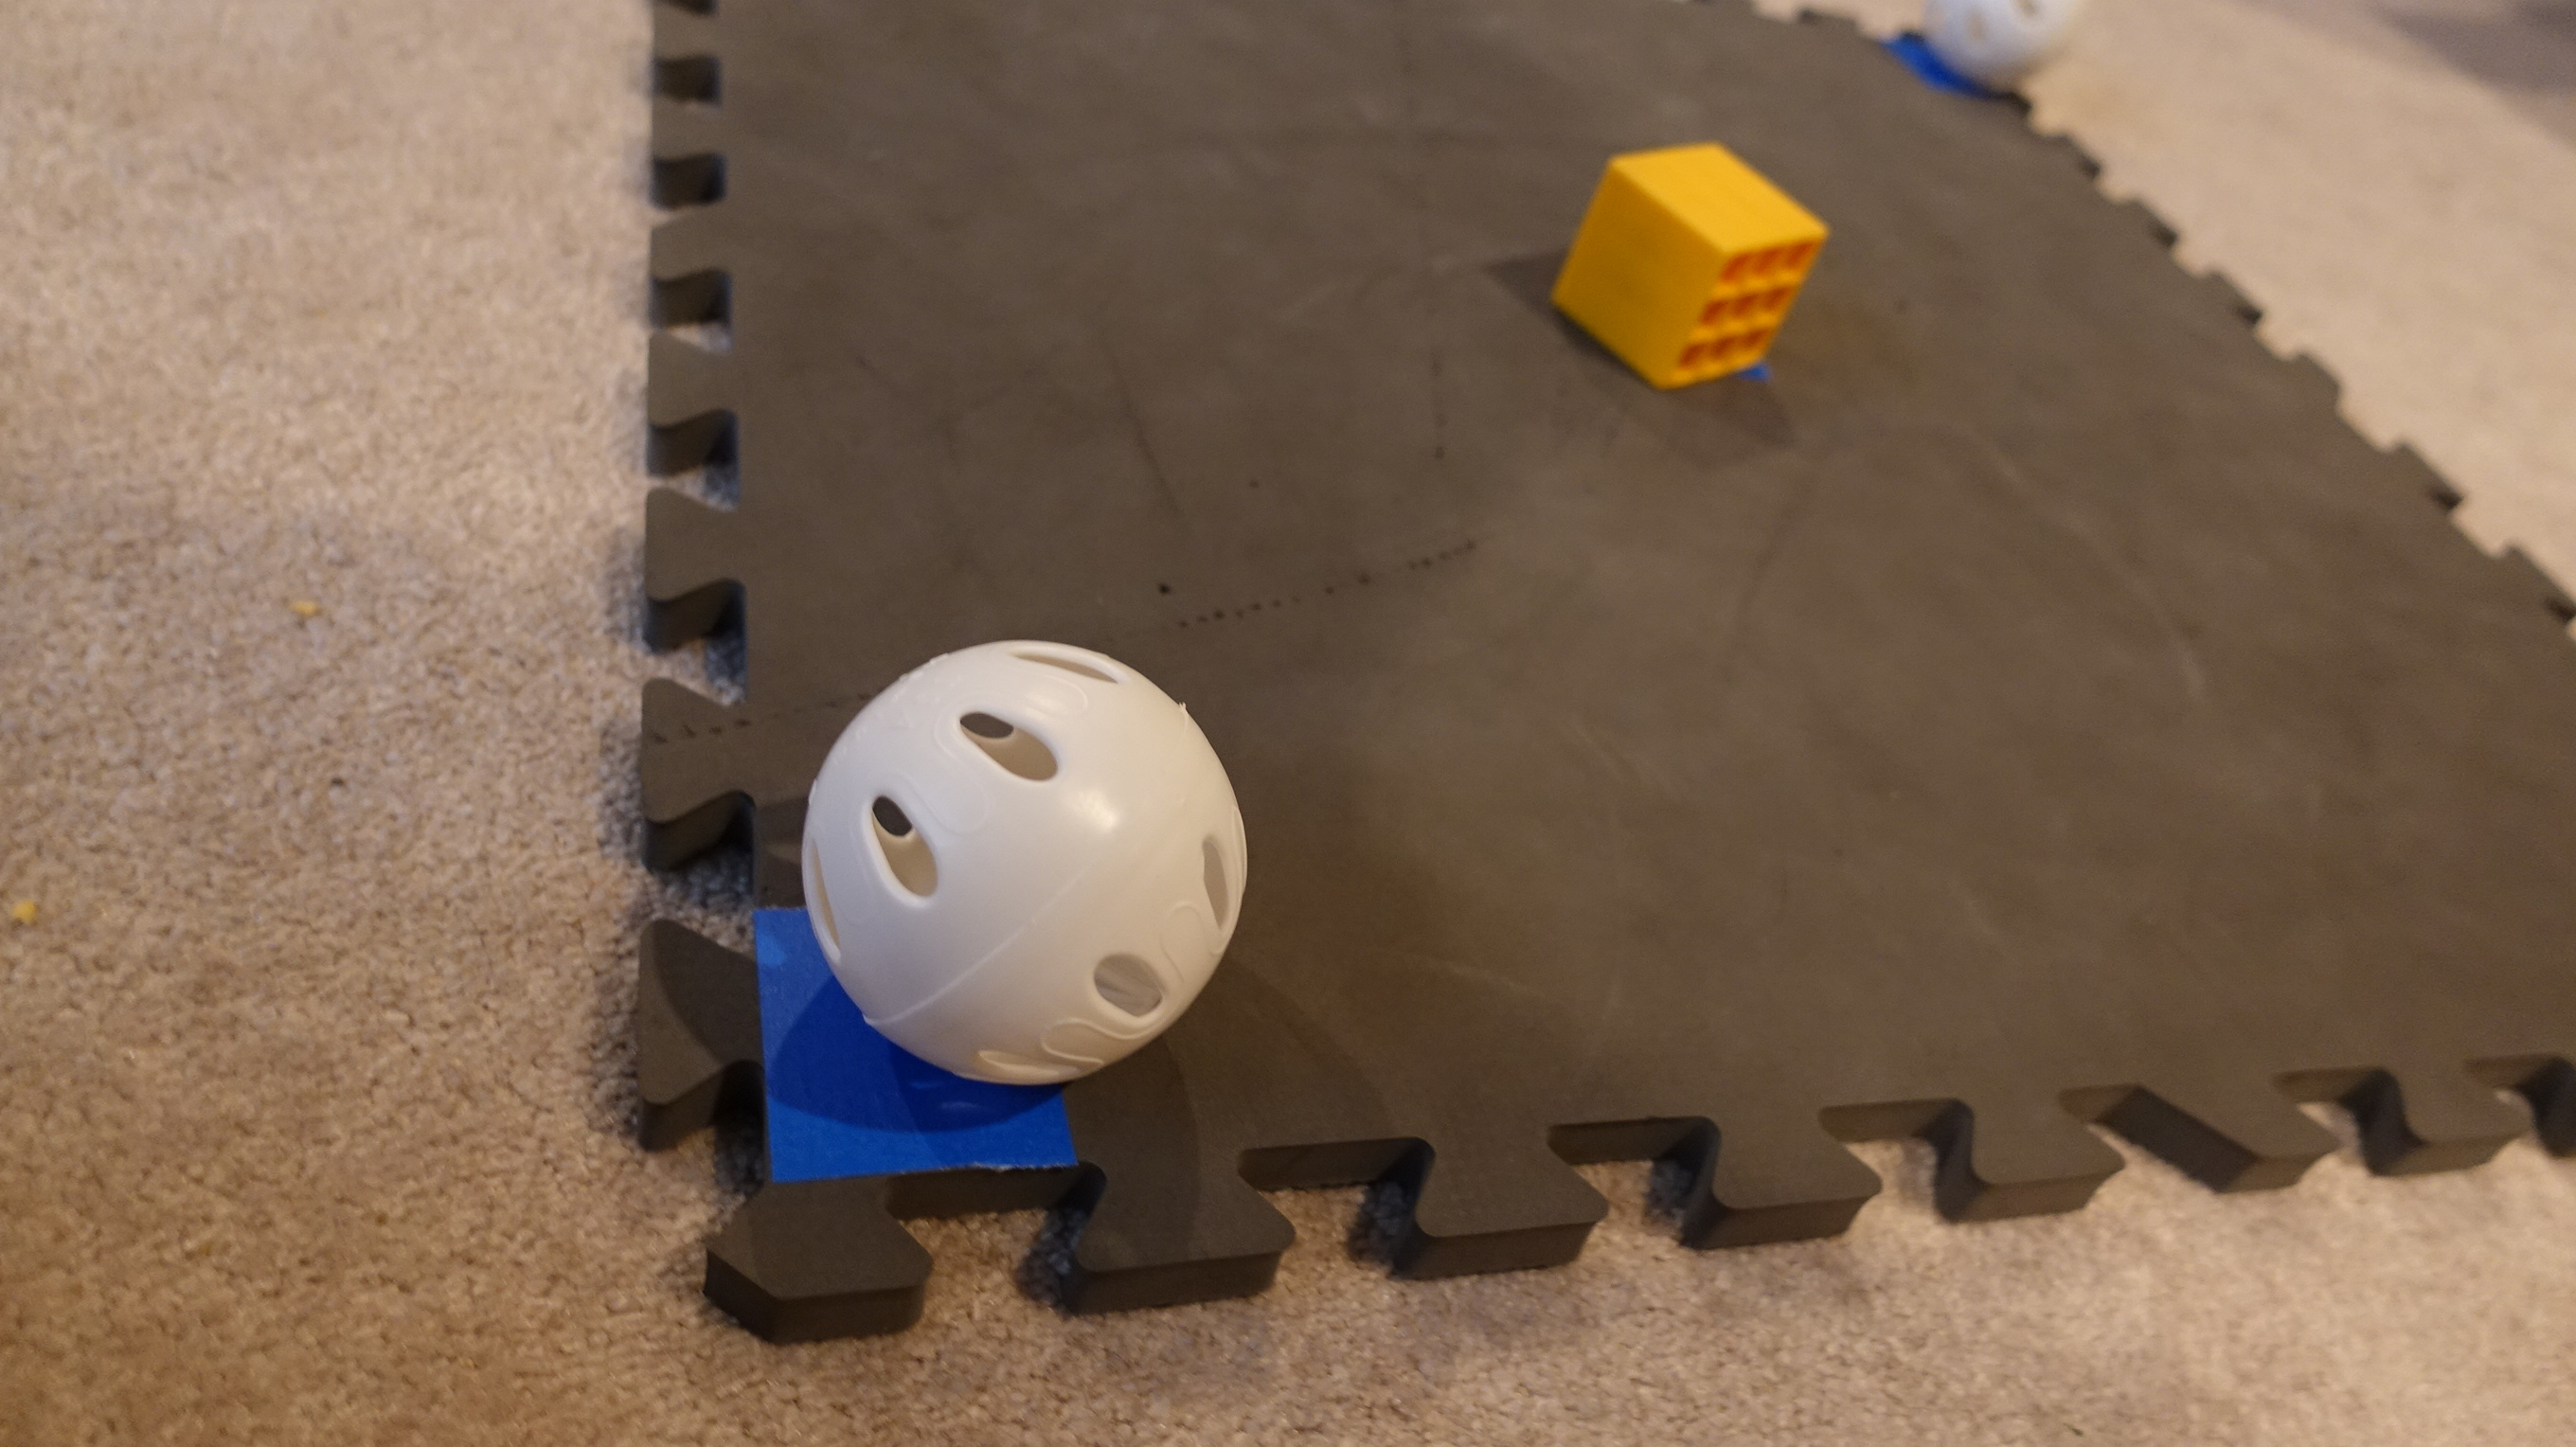gold: (1546, 138, 1833, 391)
silver: (794, 626, 1258, 1097), (1921, 2, 2091, 85)
